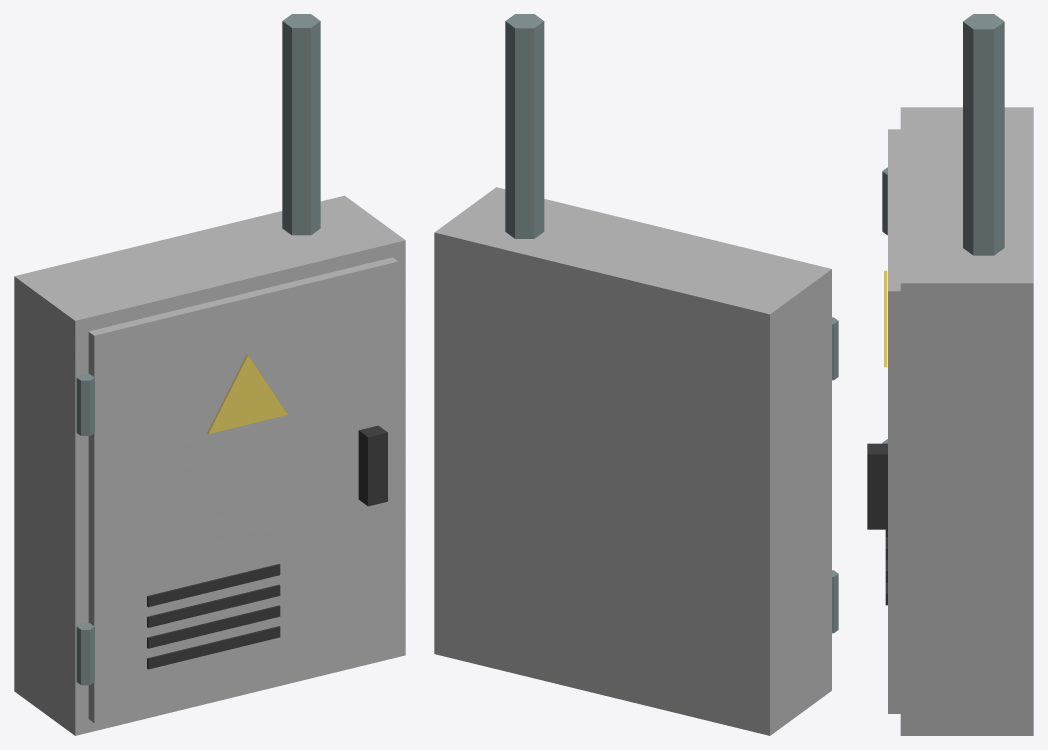
File: kit_fuse_box.fbx
The picture shows the model from 3 angles, left to right: view 1: azimuth 30°, elevation 25°; view 2: azimuth 150°, elevation 25°; view 3: azimuth 270°, elevation 25°; orthographic projection. The views are drawn at different scales.
Parts seen in each view (by area): view 1: kit_fuse_box; view 2: kit_fuse_box; view 3: kit_fuse_box.
Part boxes in pixels (bbox=[...]): kit_fuse_box: bbox=[14, 14, 405, 735]; kit_fuse_box: bbox=[434, 14, 838, 735]; kit_fuse_box: bbox=[867, 14, 1033, 735].
Bounding box in the file's own units: 0.5004 × 0.9 × 0.2.
